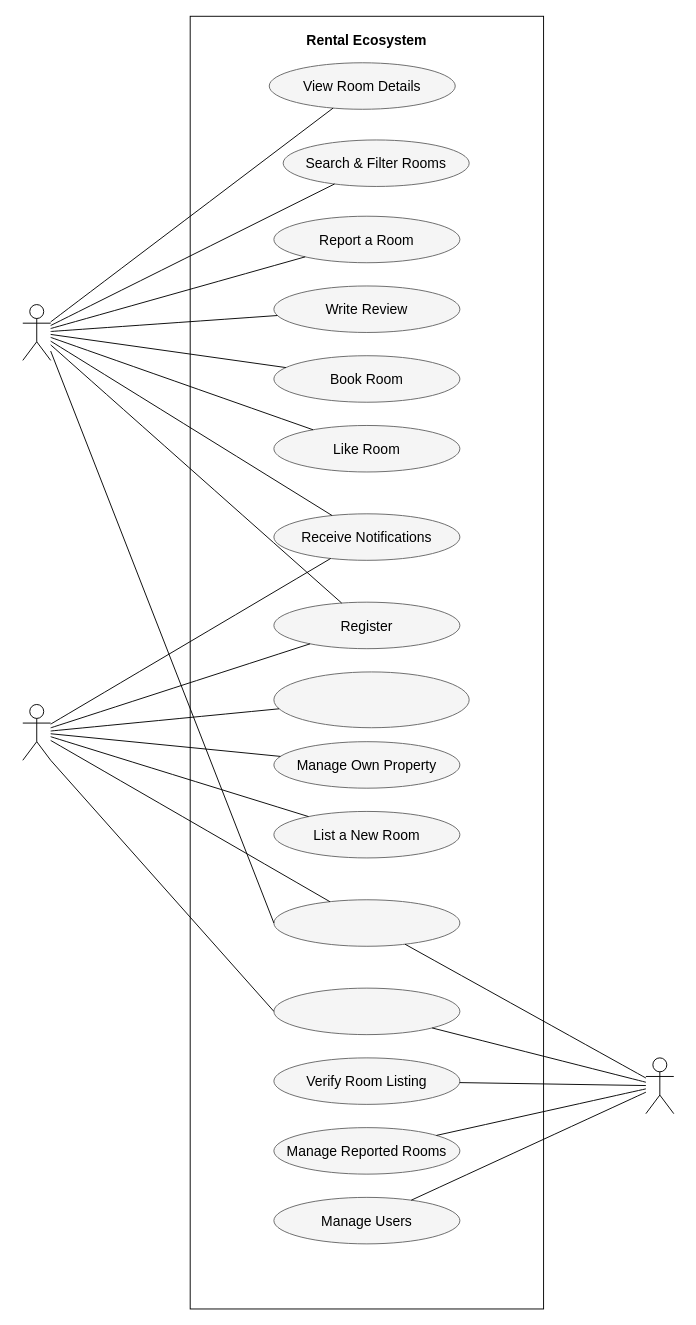
The diagram is 696 pixels wide and 1325 high, and some of its shapes have lost their labels. The centre of each missing label's shape, as x and y in pixels:
"Admin" goes at pixel 659 1085.
"Login" goes at pixel 366 922.
"Owner" goes at pixel 36 732.
"Send Notifications" goes at pixel 366 1011.
"Tenant" goes at pixel 36 332.
"View & Respond to Booking" goes at pixel 371 699.
